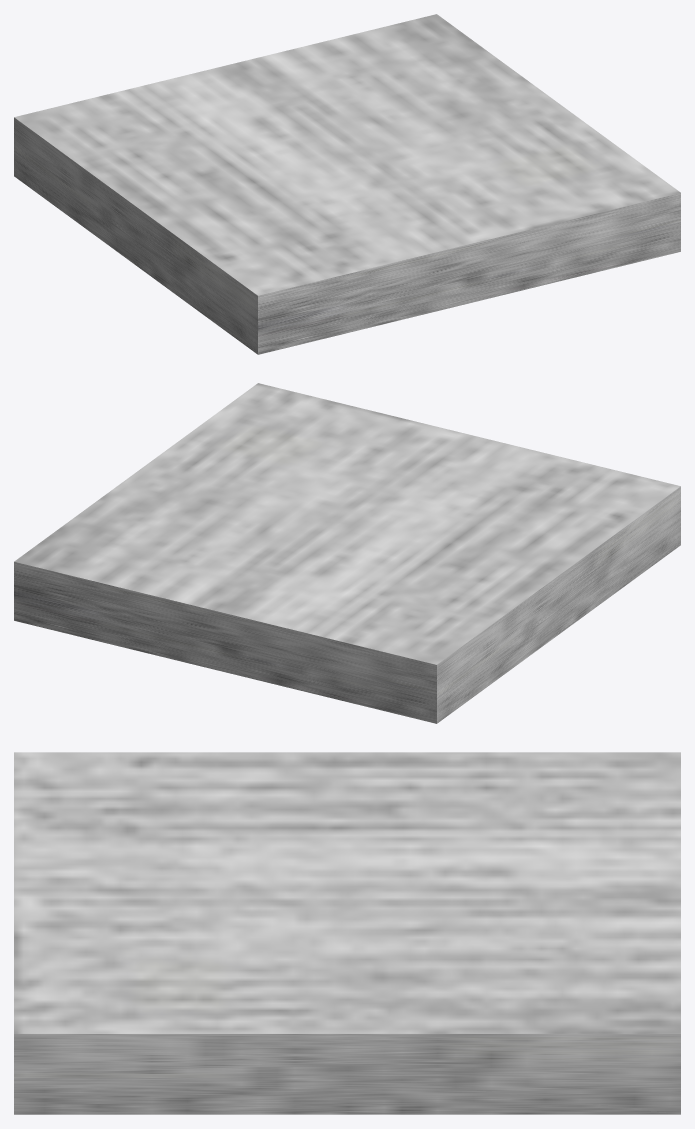
The model's file is Focus.FBX.
3 renders of one model, top to bottom at view 1: azimuth 30°, elevation 25°; view 2: azimuth 150°, elevation 25°; view 3: azimuth 270°, elevation 25°, orthographic. The views are drawn at different scales.
Parts seen in each view (by area): view 1: Focus; view 2: Focus; view 3: Focus.
Part boxes in pixels (<box>): Focus: <box>14,14,680,354</box>; Focus: <box>14,383,680,723</box>; Focus: <box>14,752,680,1114</box>.
Bounding box in the file's own units: 15 × 2 × 15.
Materials: 2 (1 with a texture image).
